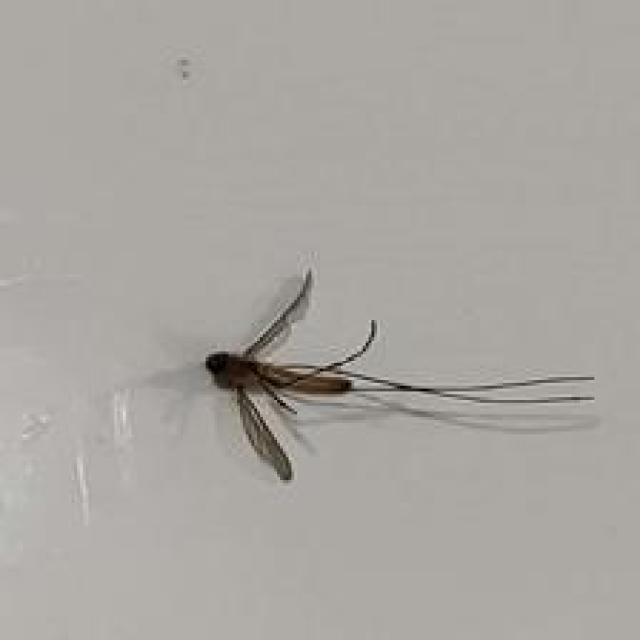Culex: (200, 266, 597, 483)
